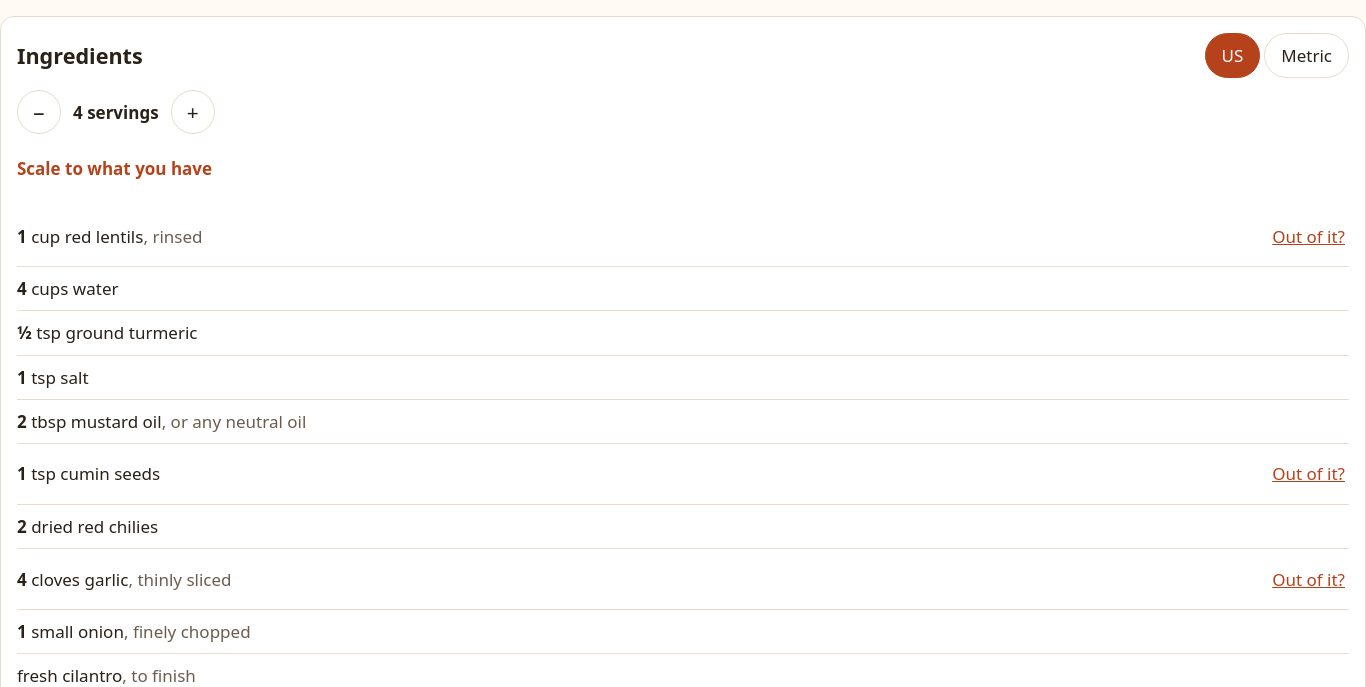
Test: Scale to what you have › rescales the whole recipe around the amount you have
Click the heading "Scale to what you have": (115,168) [17,157,212,180]
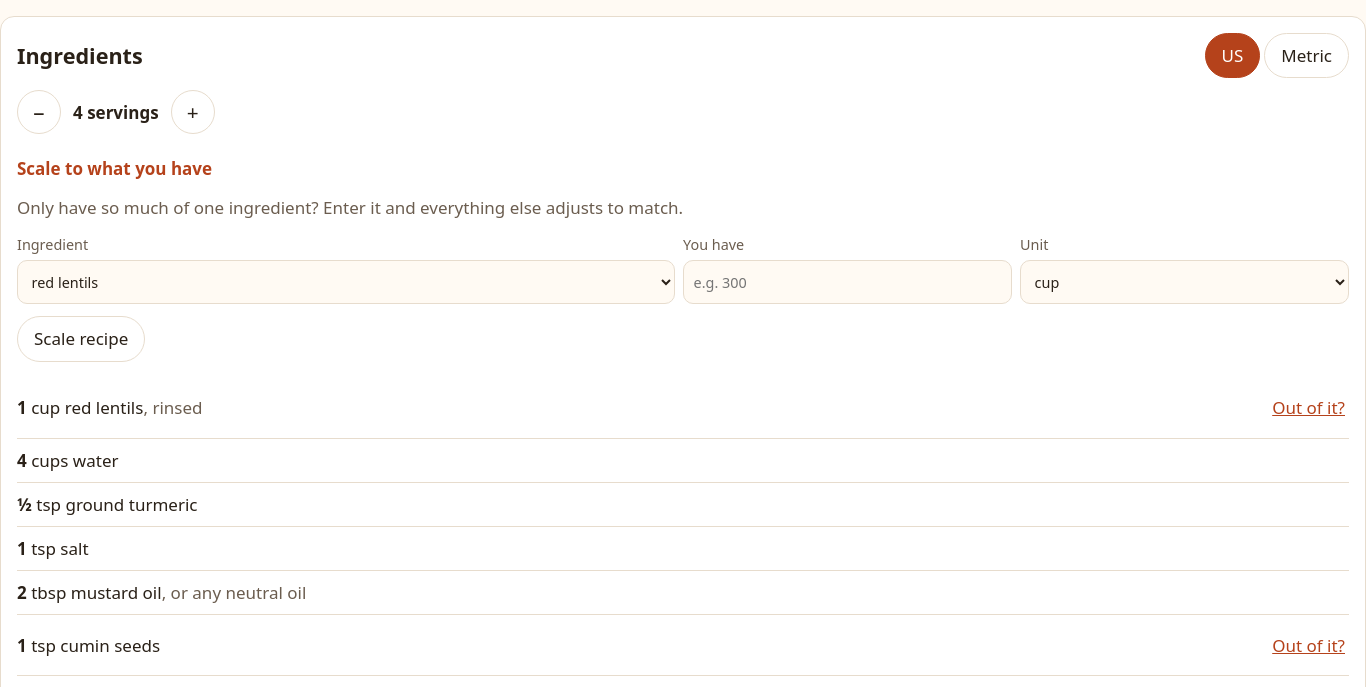
Select "red lentils" in the dropdown labelled "Ingredient": (346,282) [17,260,675,304]
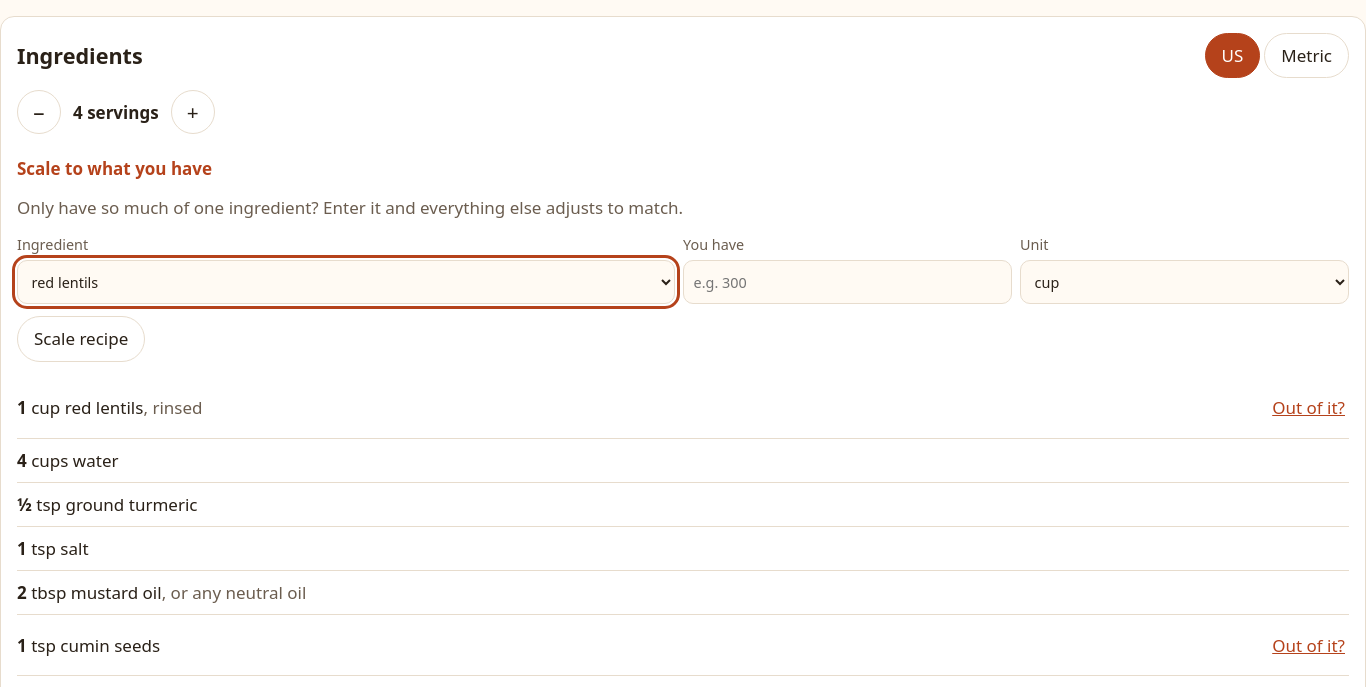
In the field labelled "You have": (848,282) [683,260,1012,304], type "2"
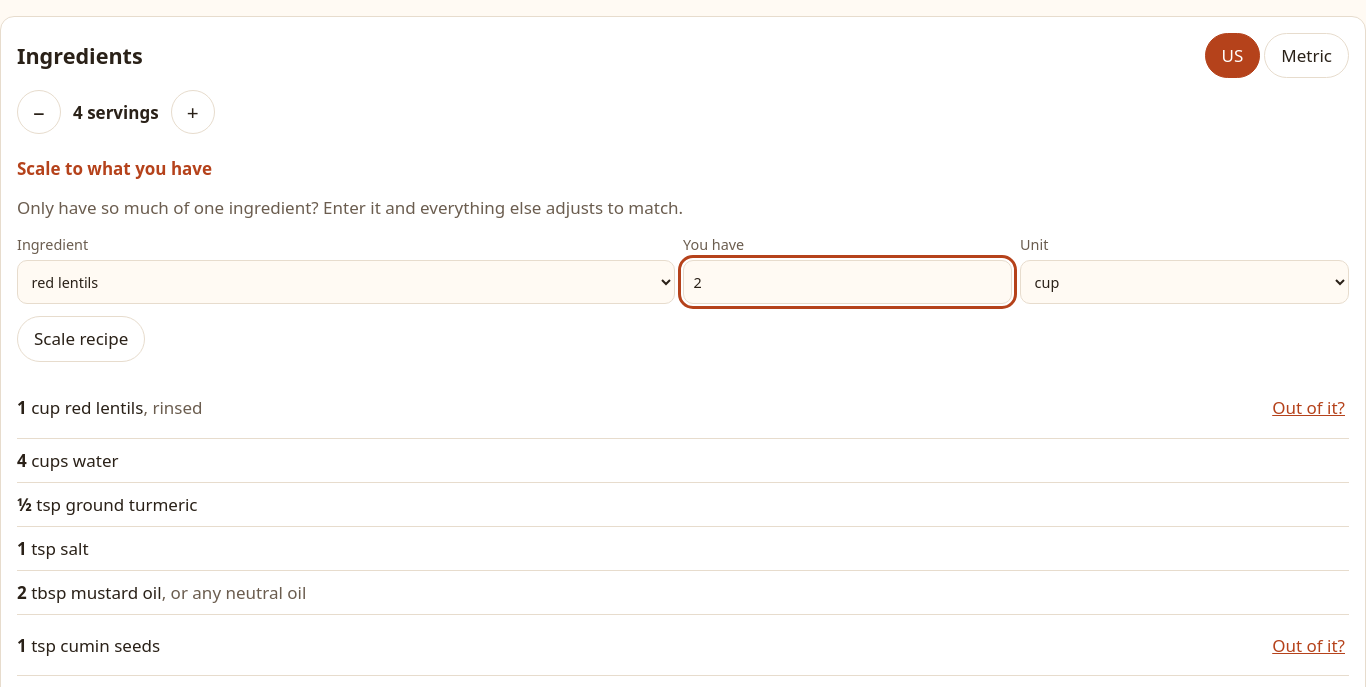
Select "cup" in the dropdown labelled "Unit": (1184,282) [1020,260,1349,304]
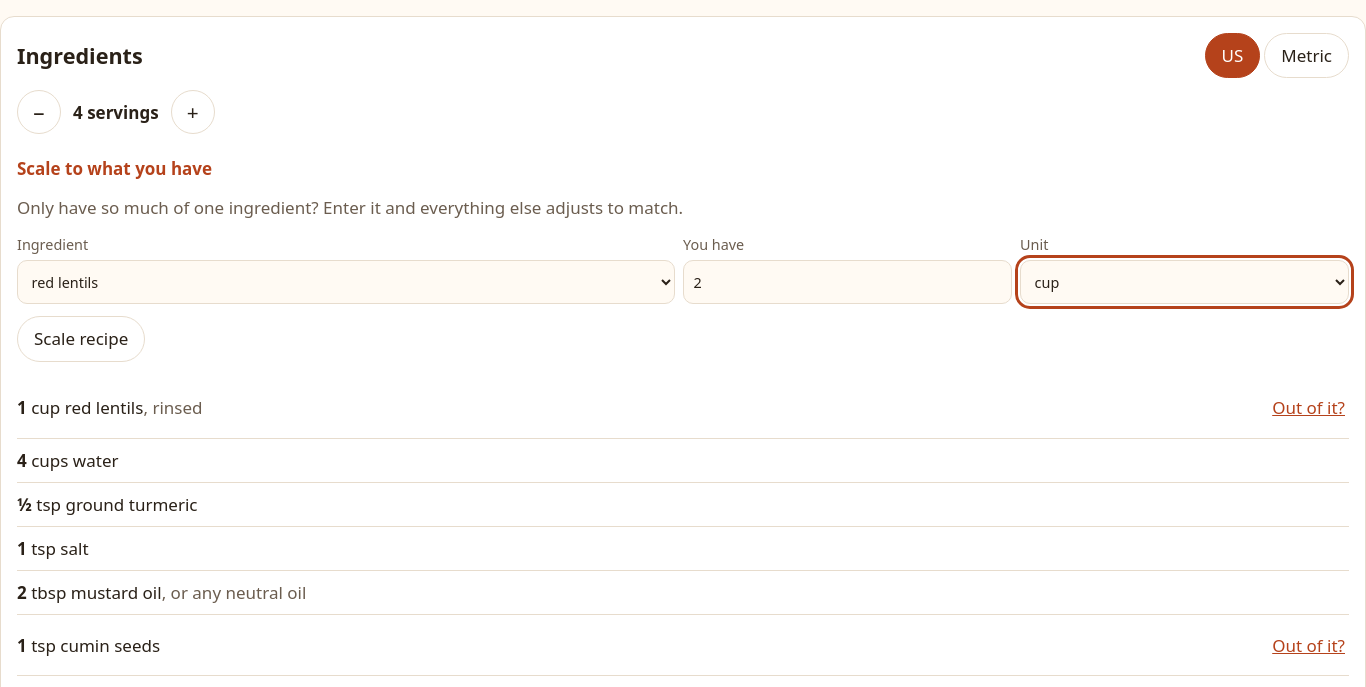
Click the button "Scale recipe": (81,339) [17,316,145,362]
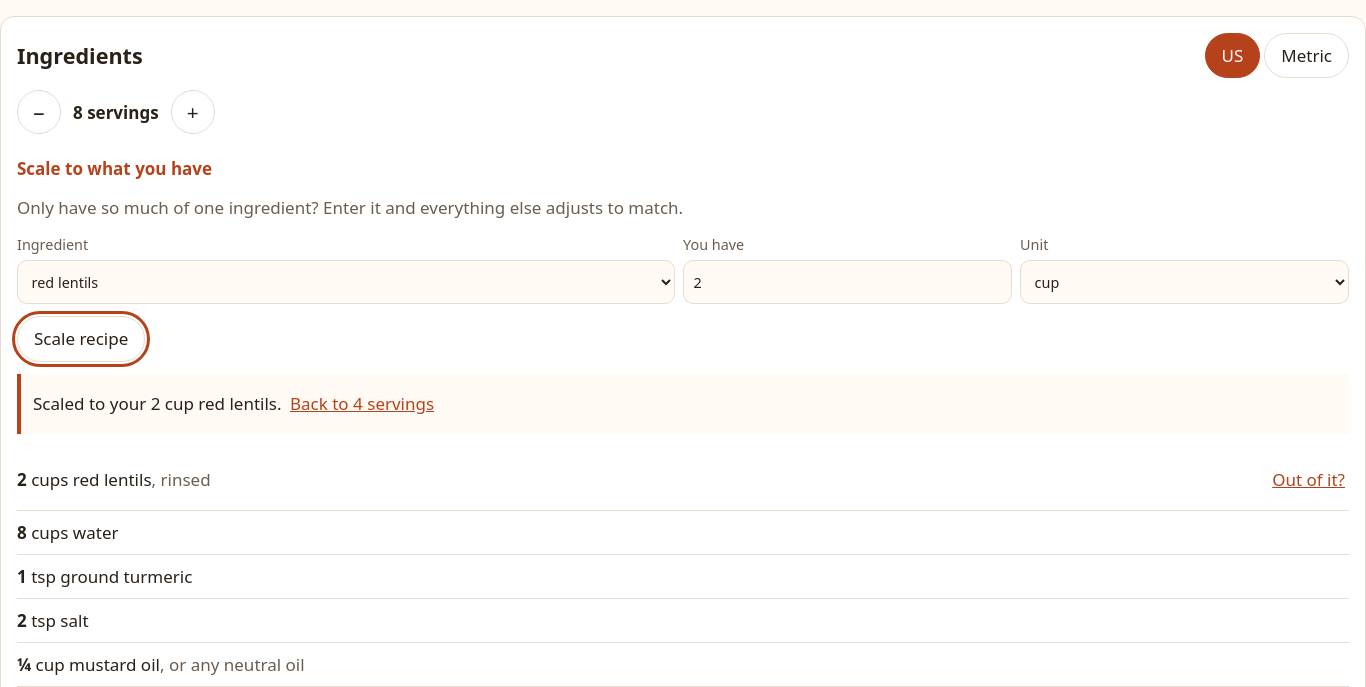
Expected: the text "8 servings" is shown, [73,99,159,126]
Expected: the list item "2 cups red lentils, rinsed Out of it?" is shown, [17,450,1349,511]
Expected: the text "Scaled to your 2 cup red lentils. Back to 4 servings" is shown, [17,374,1349,434]
